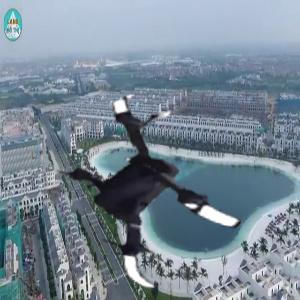drone: (35, 78, 252, 295)
